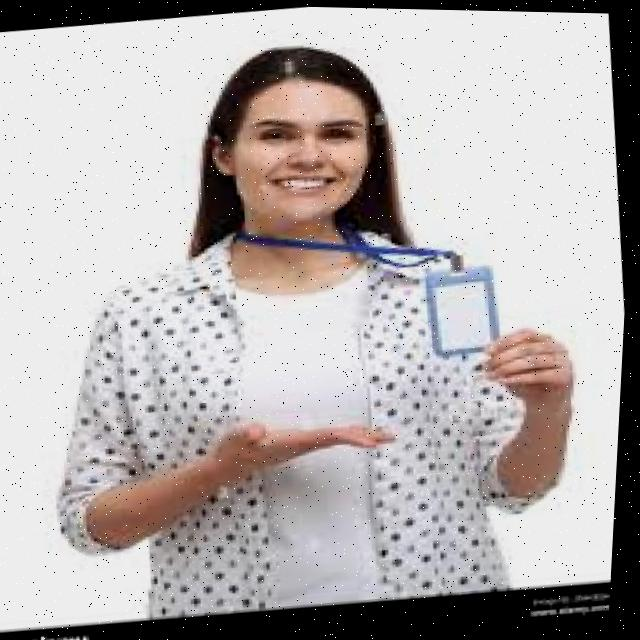id_card: (226, 179, 527, 380)
